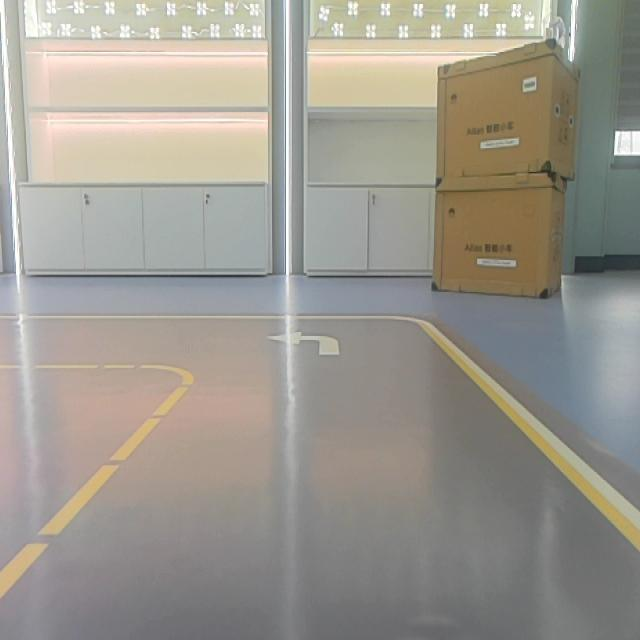left_lane: (0, 386, 192, 601)
right_lane: (422, 329, 638, 553)
